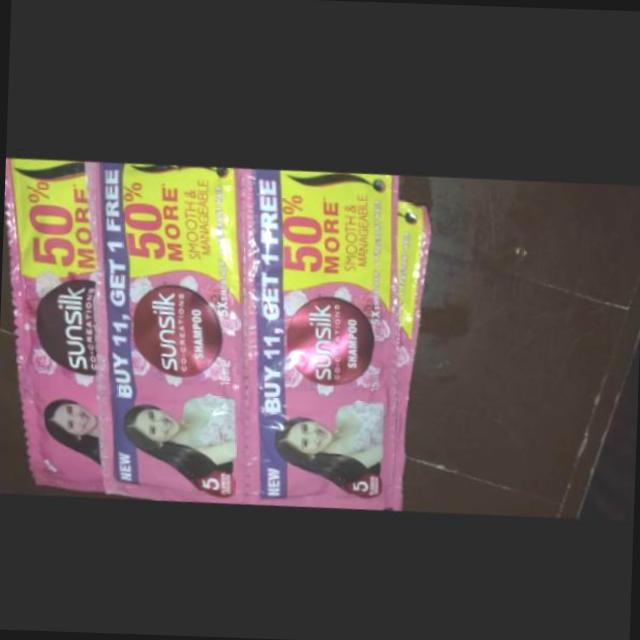goi_nhua_nho: (82, 160, 247, 500), (236, 163, 397, 503), (3, 158, 103, 490)
